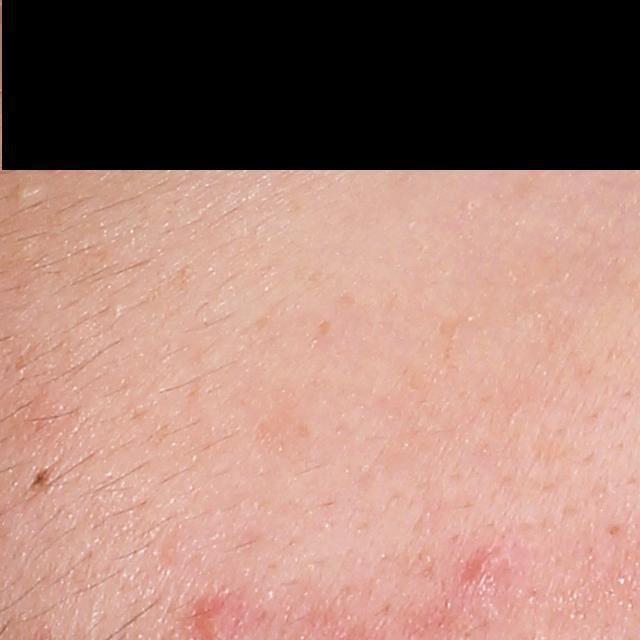papule: (194, 599, 231, 638)
